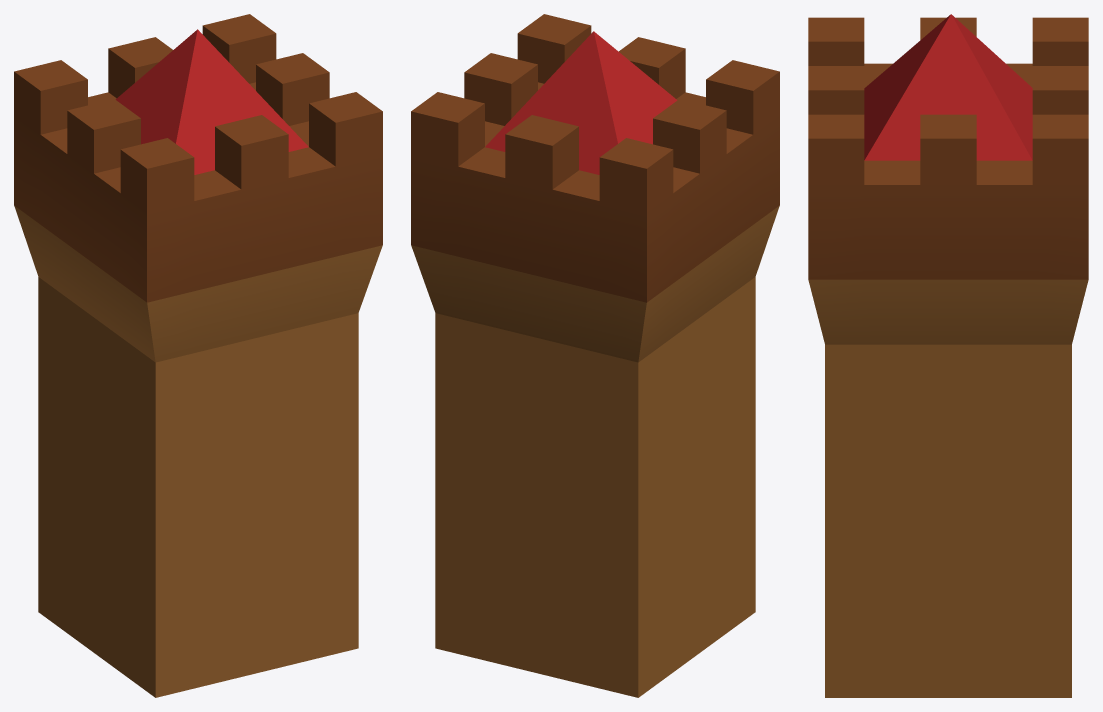
The model's file is tower_fire.DAE.
3 views of the same model, side by side, from view 1: azimuth 30°, elevation 25°; view 2: azimuth 150°, elevation 25°; view 3: azimuth 270°, elevation 25° (orthographic). The views are drawn at different scales.
Visible parts, largest first — view 1: Tower_Fire; view 2: Tower_Fire; view 3: Tower_Fire.
Boxes of the visible parts, bbox=[...] form: Tower_Fire: bbox=[14, 14, 382, 697]; Tower_Fire: bbox=[411, 14, 779, 697]; Tower_Fire: bbox=[808, 14, 1088, 697].
Bounding box in the file's own units: 29.04 × 70.63 × 28.39.
